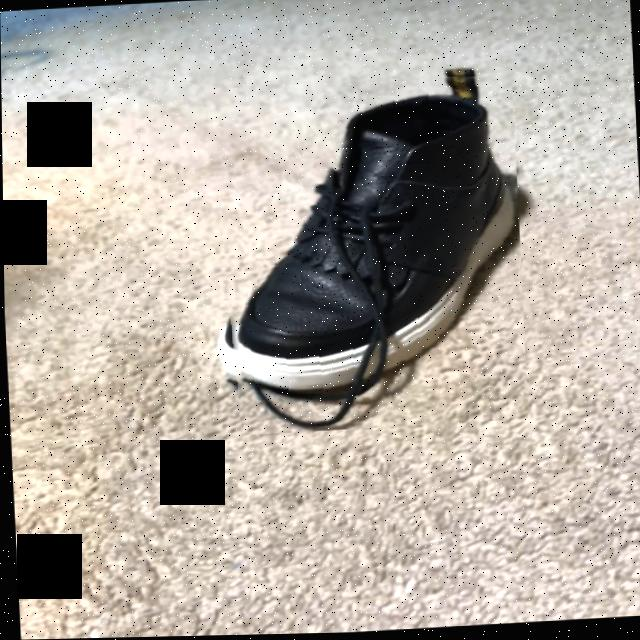shoe: (229, 78, 518, 433)
